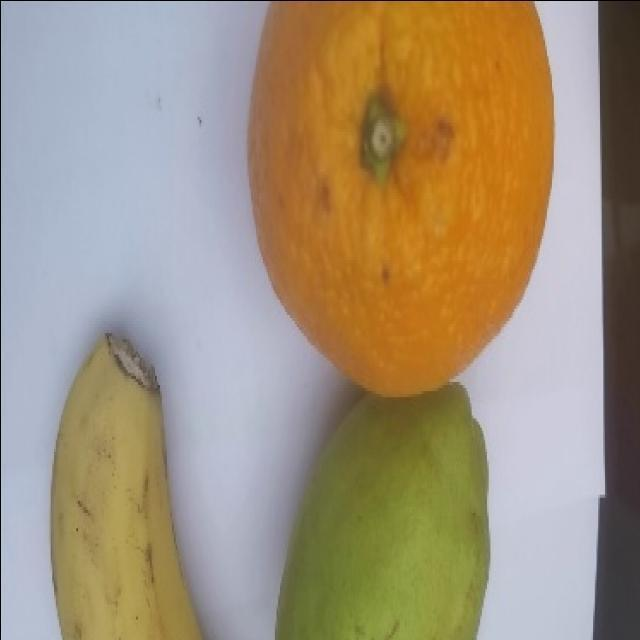Banana: (49, 331, 203, 639)
Orange: (245, 0, 555, 398)
